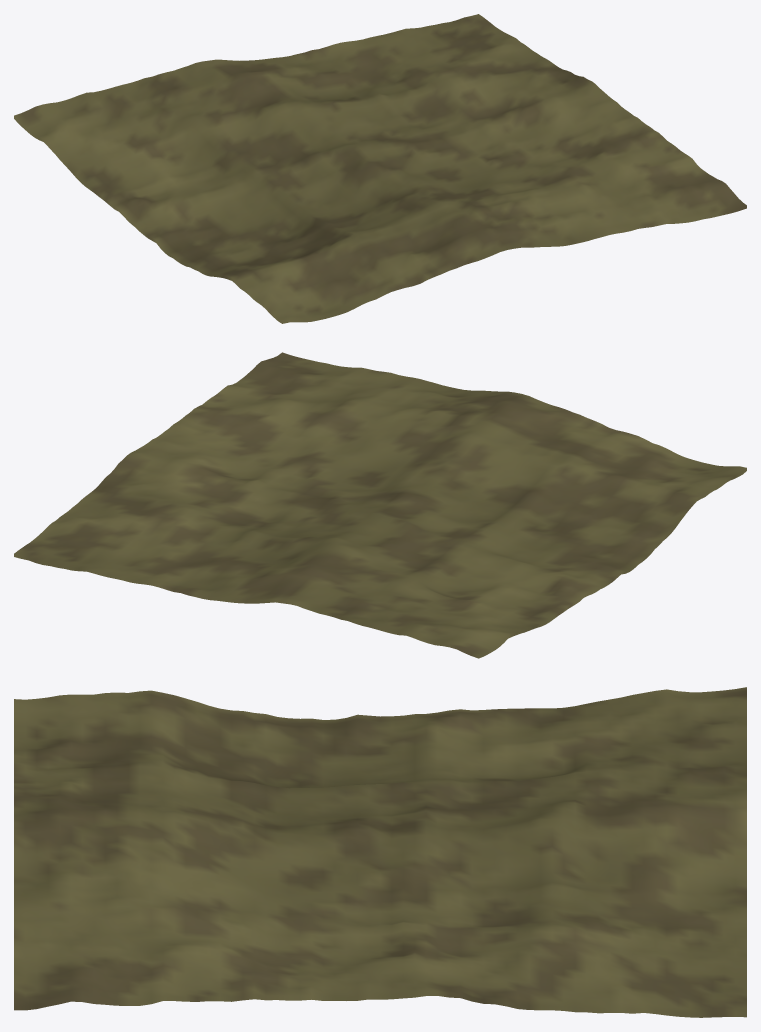
File: land_f_03_09.glb
3 views of the same model, one above another, from view 1: azimuth 30°, elevation 25°; view 2: azimuth 150°, elevation 25°; view 3: azimuth 270°, elevation 25° (orthographic). The views are drawn at different scales.
Visible parts, largest first — view 1: land_f_03_09; view 2: land_f_03_09; view 3: land_f_03_09.
Part boxes in pixels (x1,y1,x2,y2): land_f_03_09: (14,14,746,323); land_f_03_09: (14,352,746,658); land_f_03_09: (14,687,746,1017).
Size of the model in its own units: 3840 by 333 by 3840.
